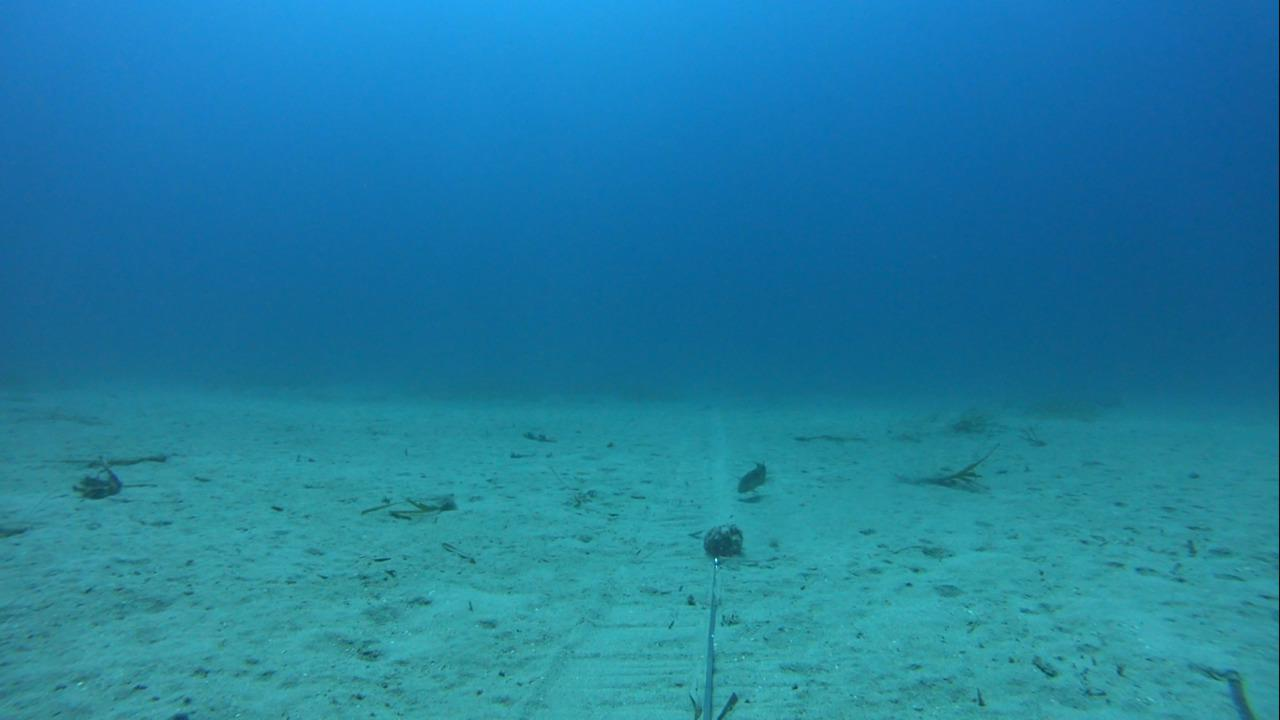raor: (730, 455, 768, 499)
